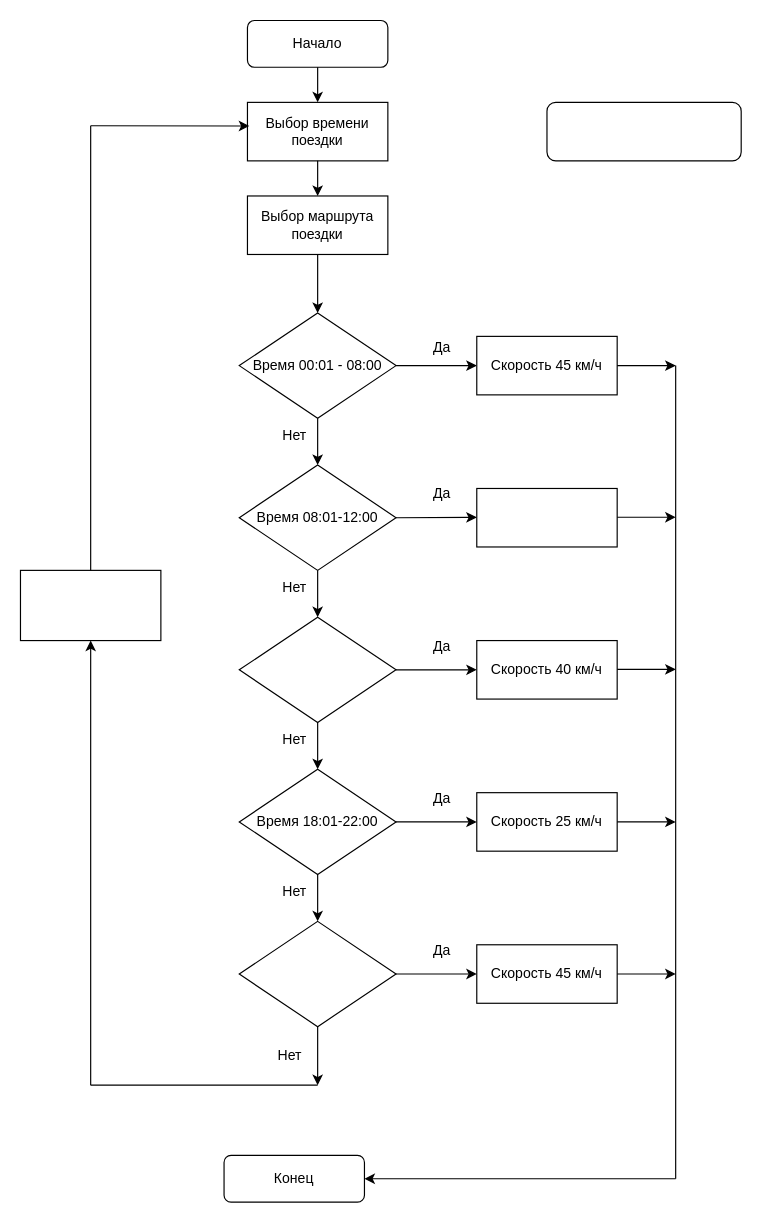
Image size: 762x1223. Some labels were removed from this diagram. Each missing label, with the box of its shape:
Время 12:01-18:00: (238, 616, 396, 722)
Время 22:01-00:00: (238, 920, 396, 1027)
Выбранный транспорт: «Свой автомобиль»: (546, 101, 741, 161)
Скорость 30 км/ч: (476, 487, 617, 547)
Сообщение об ошибке "Вы ввели некорректное время: (19, 569, 161, 641)
